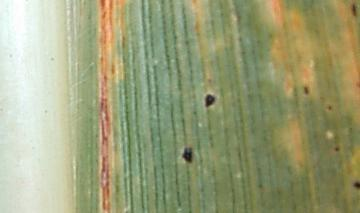tarspot: (182, 147, 193, 164), (204, 93, 216, 108), (350, 3, 358, 18), (303, 85, 309, 96), (353, 180, 360, 189), (333, 146, 341, 153), (327, 104, 333, 112)
